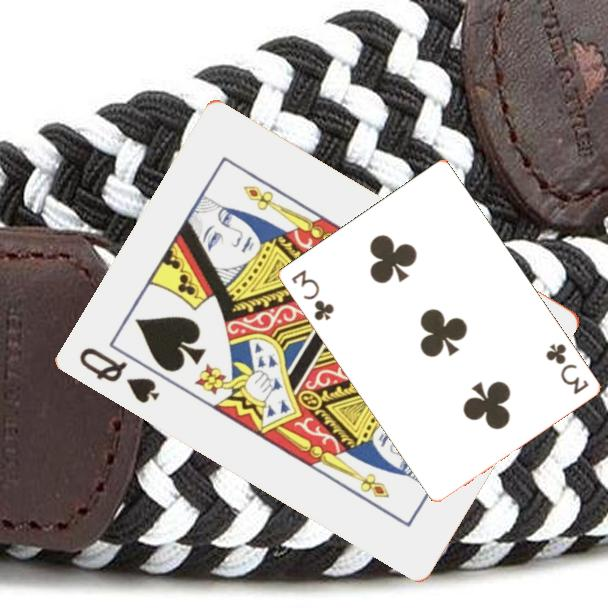c03: (287, 266, 337, 324), (542, 340, 592, 398)
s12: (76, 343, 164, 407)
